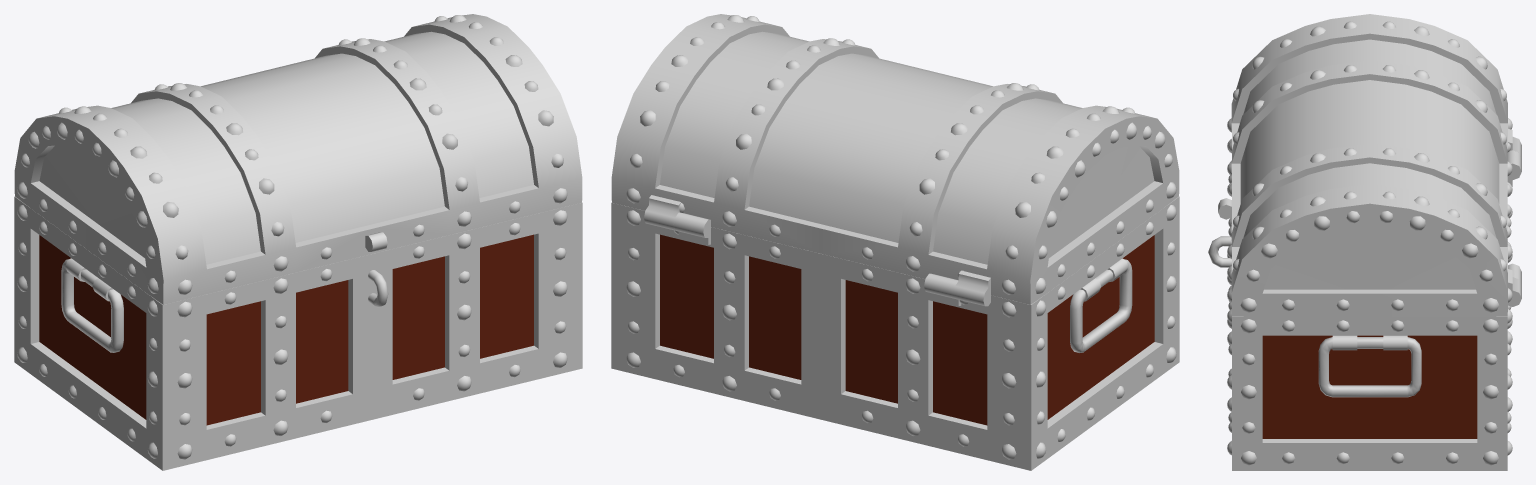
File: Chest Bloc3.fbx
3 views of the same model, side by side, from view 1: azimuth 30°, elevation 25°; view 2: azimuth 150°, elevation 25°; view 3: azimuth 270°, elevation 25° (orthographic). The views are drawn at different scales.
Visible parts, largest first — view 1: Chest_top, Chest_main; view 2: Chest_top, Chest_main; view 3: Chest_top, Chest_main.
Part boxes in pixels (x1,y1,x2,y2): Chest_top: [14, 14, 582, 304]; Chest_main: [14, 196, 582, 470]; Chest_top: [611, 14, 1179, 306]; Chest_main: [611, 196, 1179, 470]; Chest_top: [1218, 14, 1521, 316]; Chest_main: [1208, 139, 1521, 470].
Bounding box in the file's own units: 64.02 × 41.23 × 43.66.
